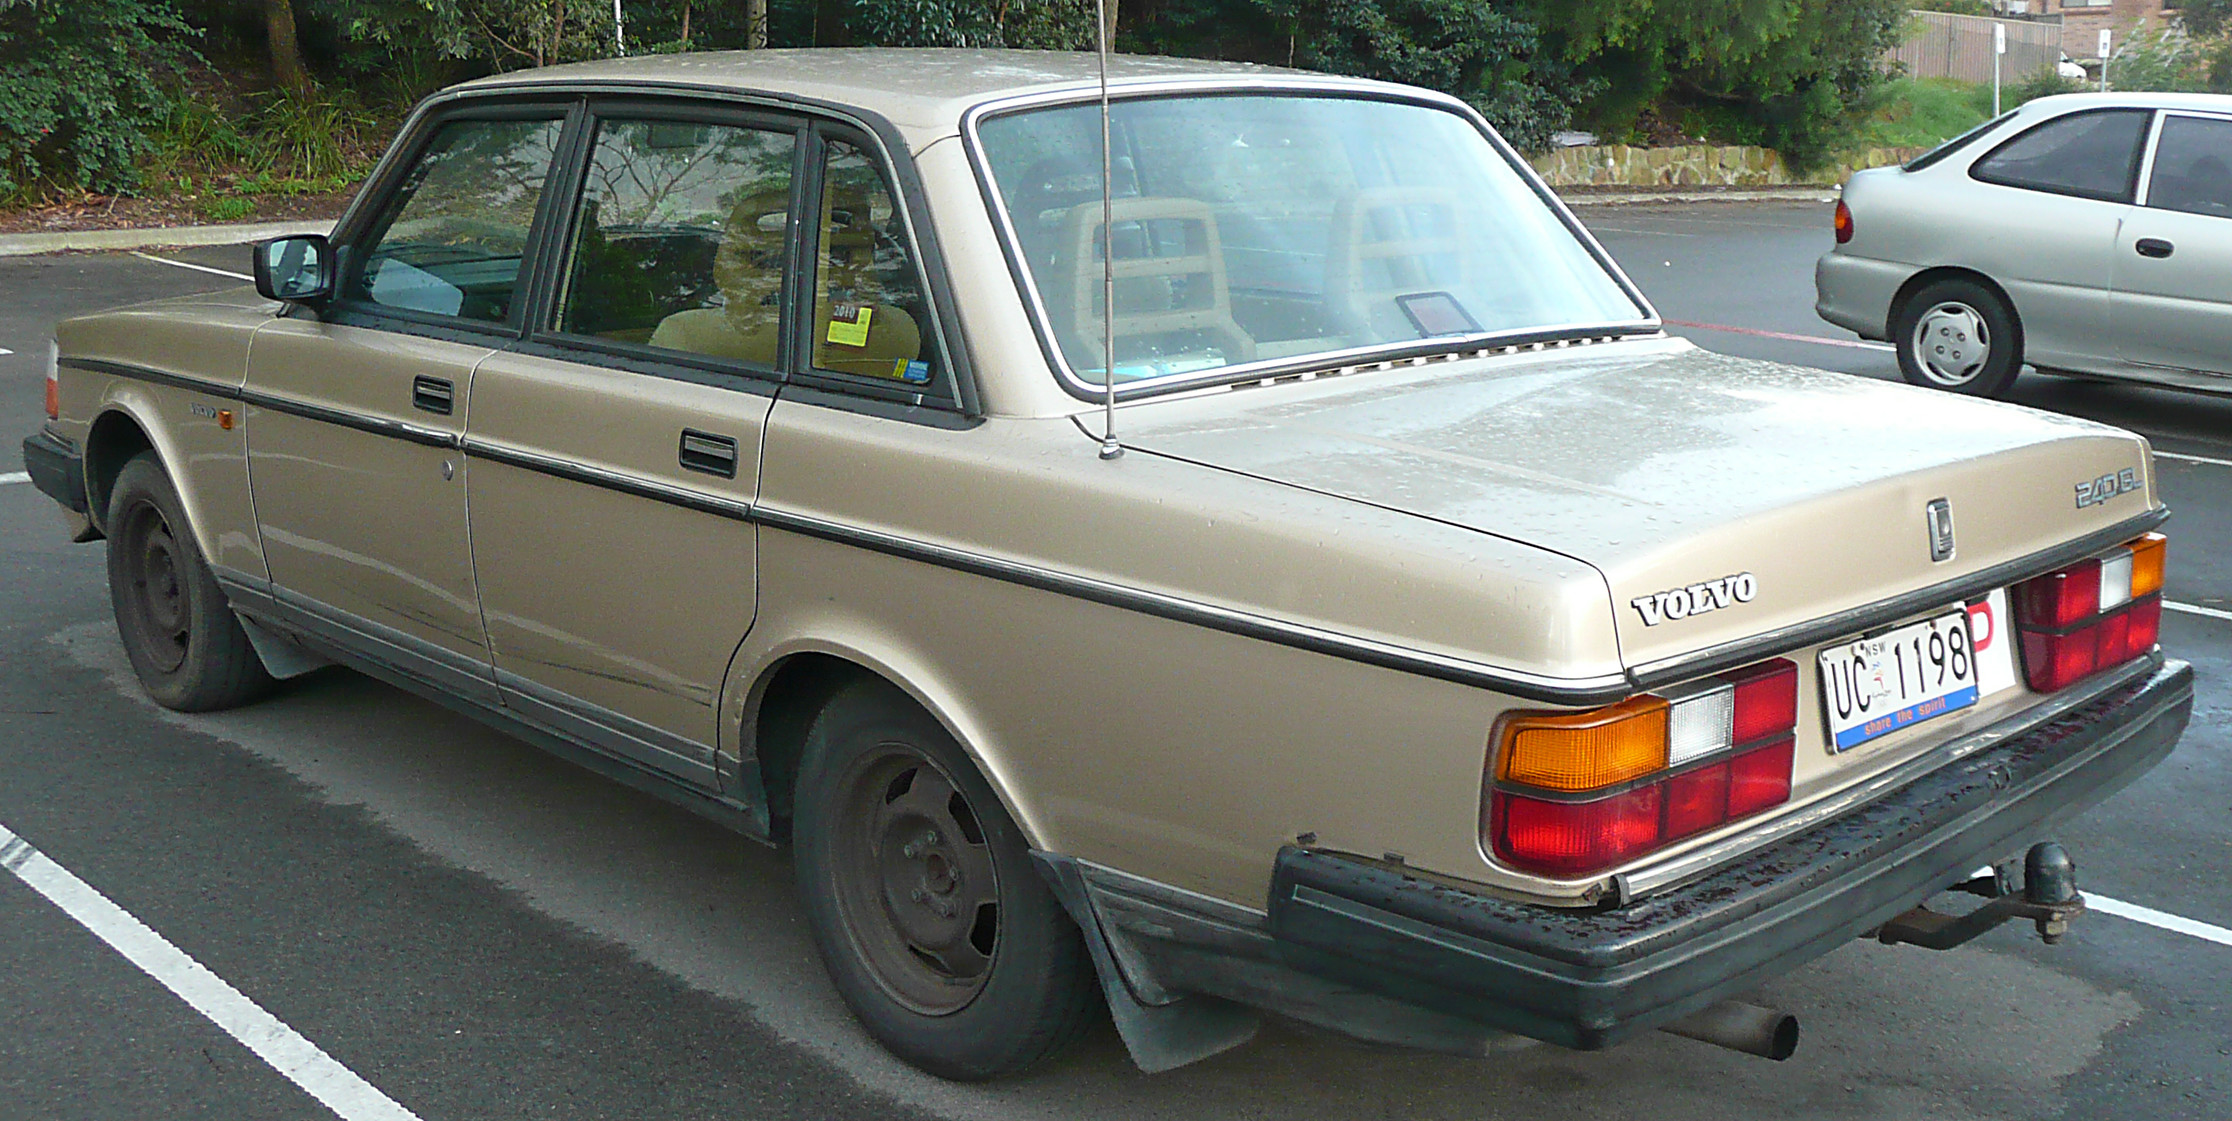car: (24, 36, 2206, 1101)
